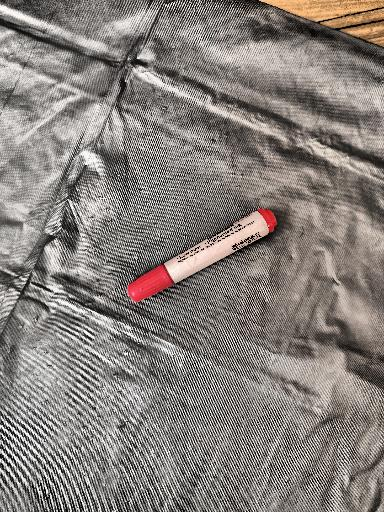marcador rojo: (127, 209, 276, 302)
